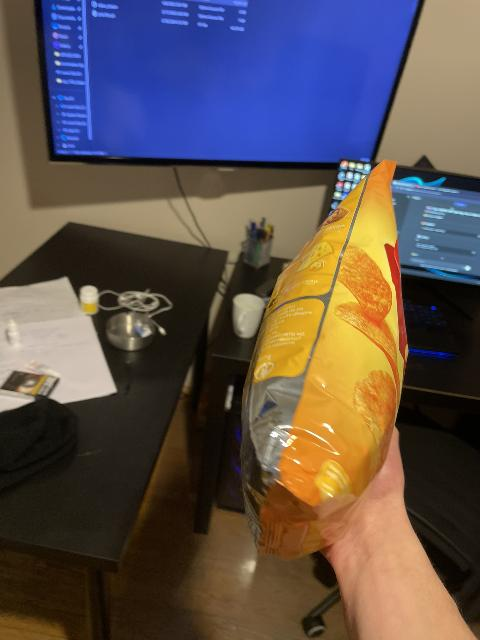Chio Cascaval 125g: (240, 161, 406, 561)
